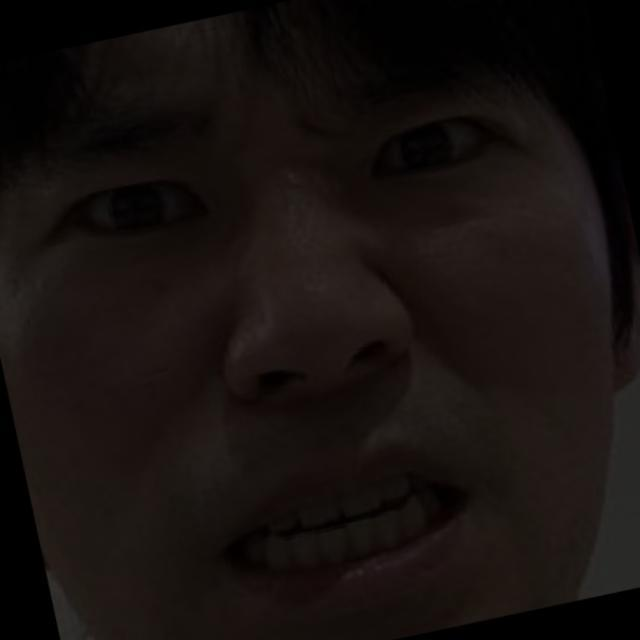Angry: (20, 49, 617, 640)
